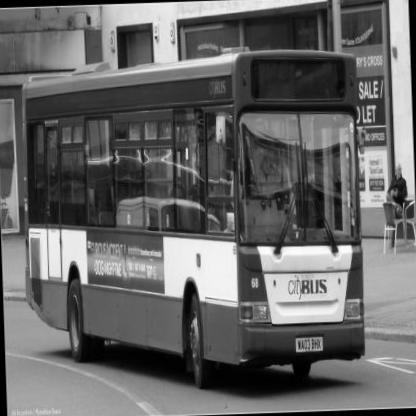bus: (5, 47, 391, 398)
